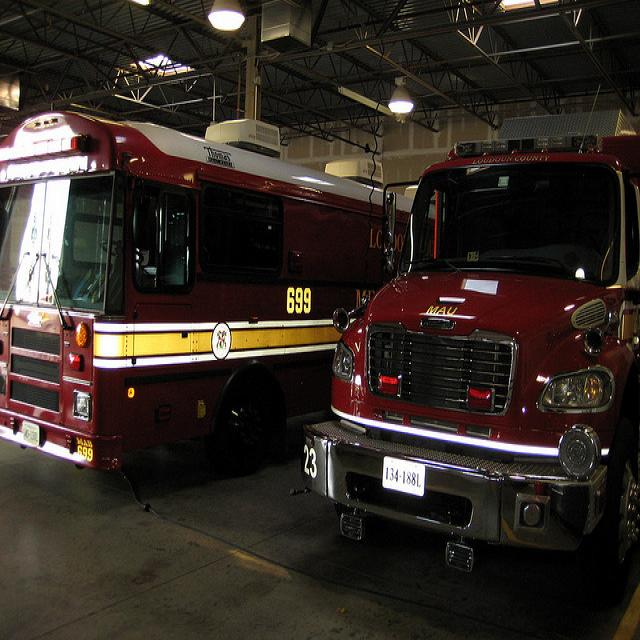Vehicle: (286, 86, 640, 573), (1, 109, 414, 472)
